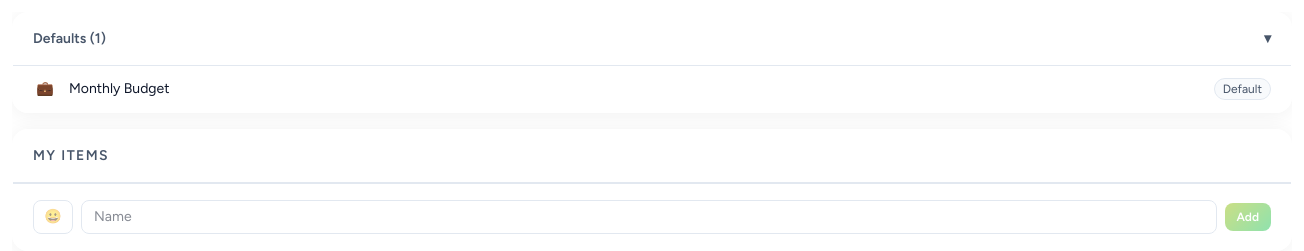
it: BudgetDataTab — defaults section › collapses defaults section on toggle
This screenshot has width=1304, height=251.
Click the button "Defaults (1) ▾" at (64, 38), box [13,13,1291,65]
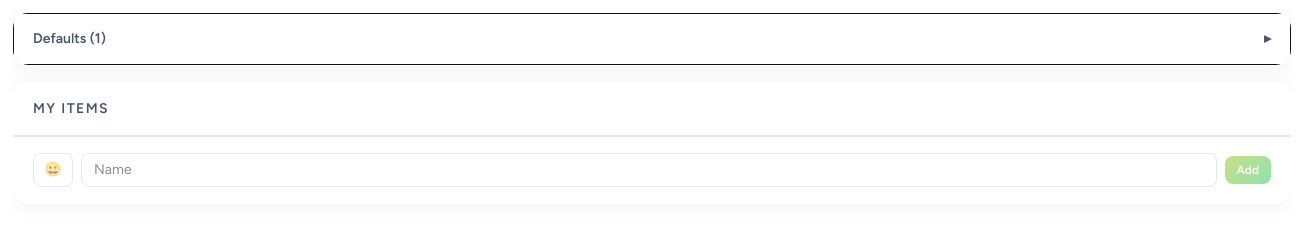
Now the text "Monthly Budget" is gone
